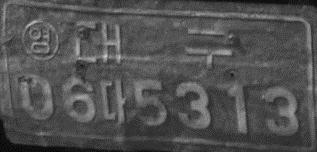0: (17, 73, 53, 122)
1: (220, 83, 256, 135)
3: (174, 80, 212, 131), (263, 85, 298, 137)
5: (132, 79, 167, 127)
6: (59, 76, 95, 123)
다: (99, 78, 128, 124)
대구_D: (73, 20, 233, 71)
영: (21, 18, 60, 62)
